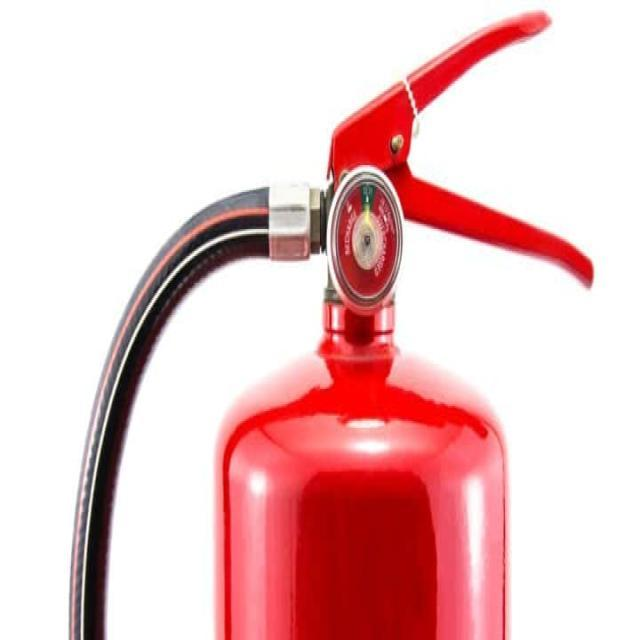pressure gauge: (327, 167, 401, 312)
